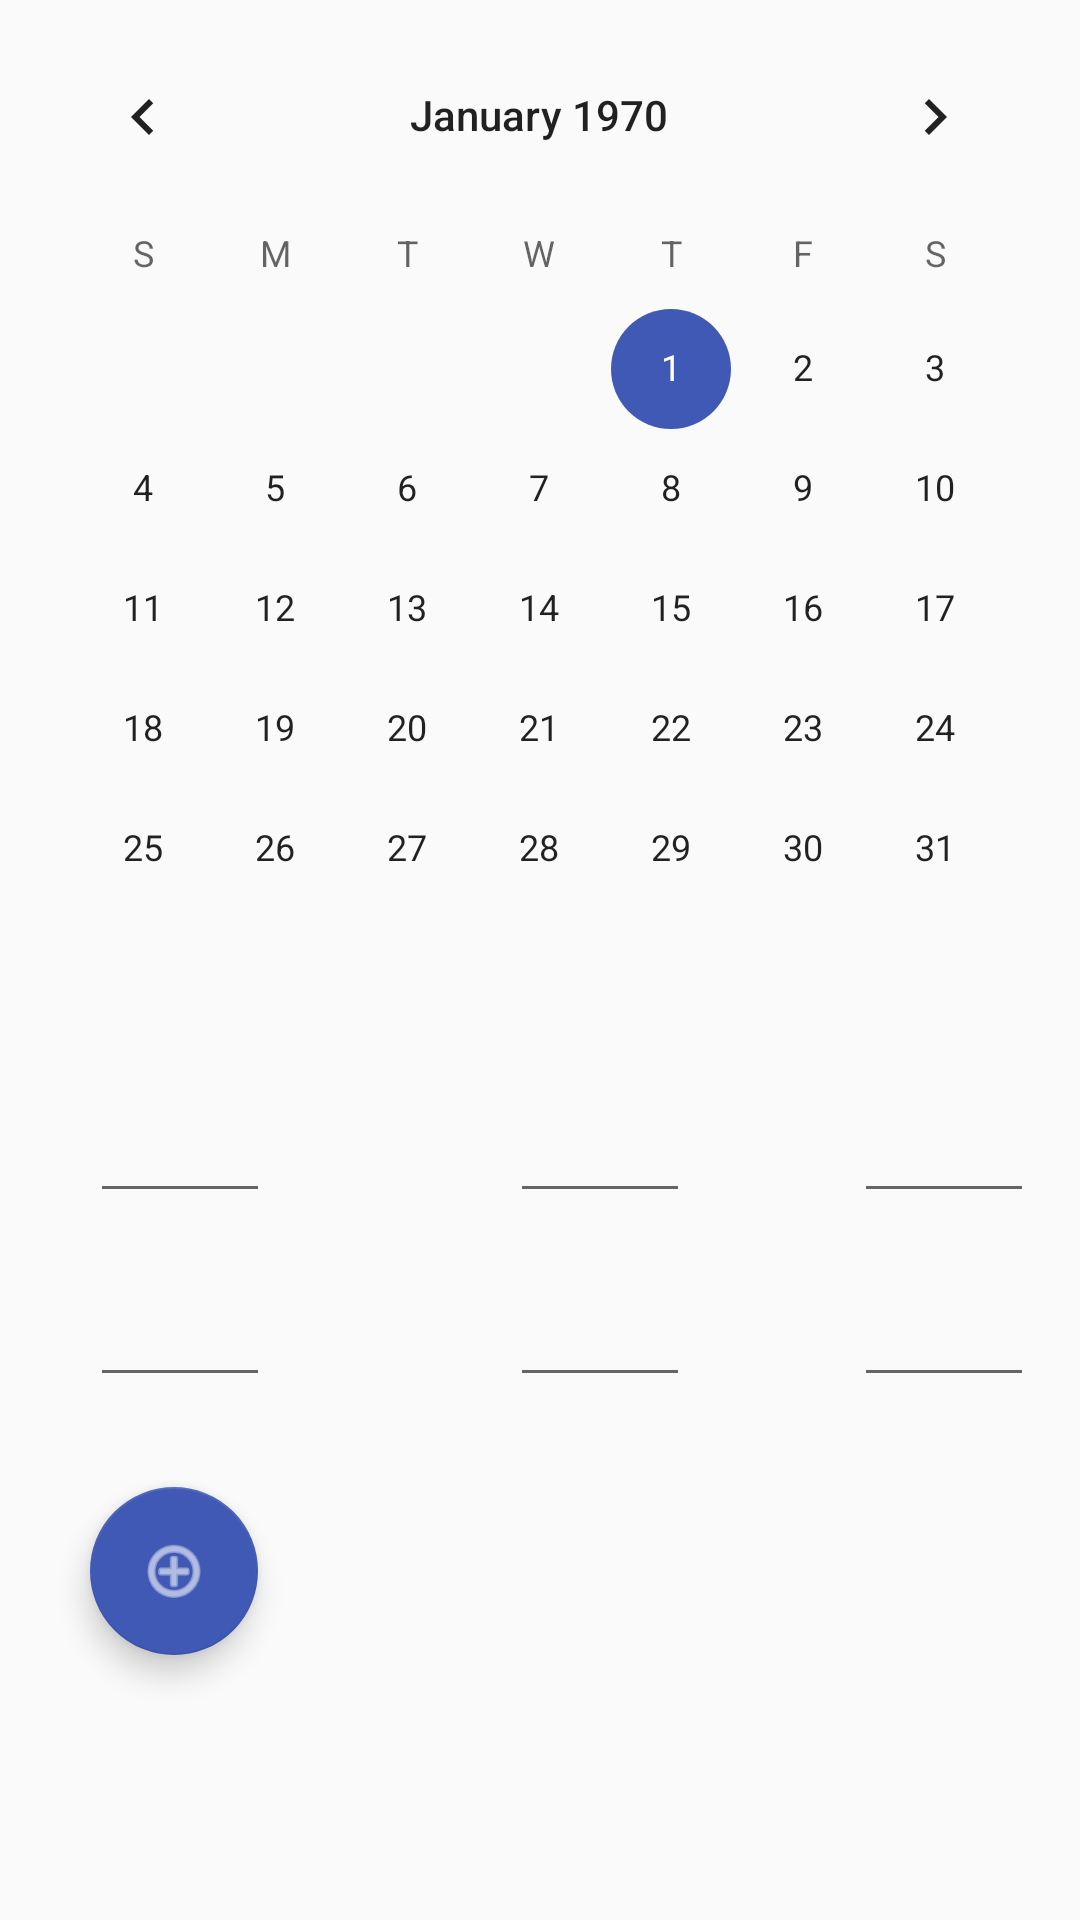

Locate icon controls on the screen. Image size 1080px x 1920px, boxes as (x1, y1, x2, y2).
add: (90, 1487, 258, 1655)
